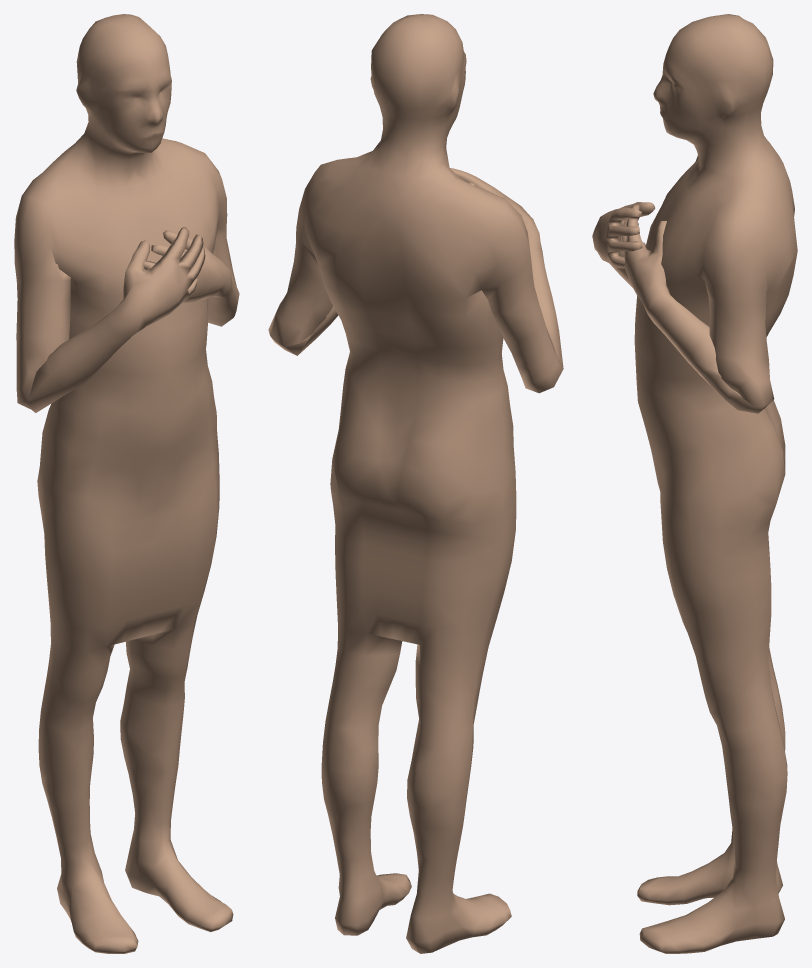
The model's file is MANES.fbx.
3 renders of one model, left to right at view 1: azimuth 30°, elevation 25°; view 2: azimuth 150°, elevation 25°; view 3: azimuth 270°, elevation 25°, orthographic.
Visible parts, largest first — view 1: humanBody013; view 2: humanBody013; view 3: humanBody013.
Part boxes in pixels (x1,y1,x2,y2): humanBody013: (14,14,239,953); humanBody013: (268,14,563,953); humanBody013: (592,14,797,953).
Bounding box in the file's own units: 53.1 × 182 × 37.79.
